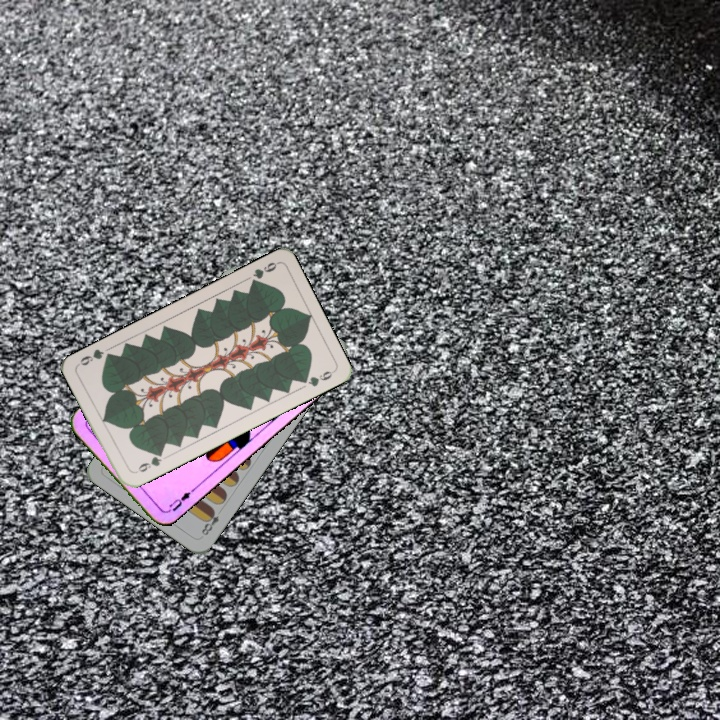E8: (197, 505, 222, 538)
EU: (161, 486, 196, 516)
G9: (246, 258, 280, 288), (130, 448, 165, 476)
